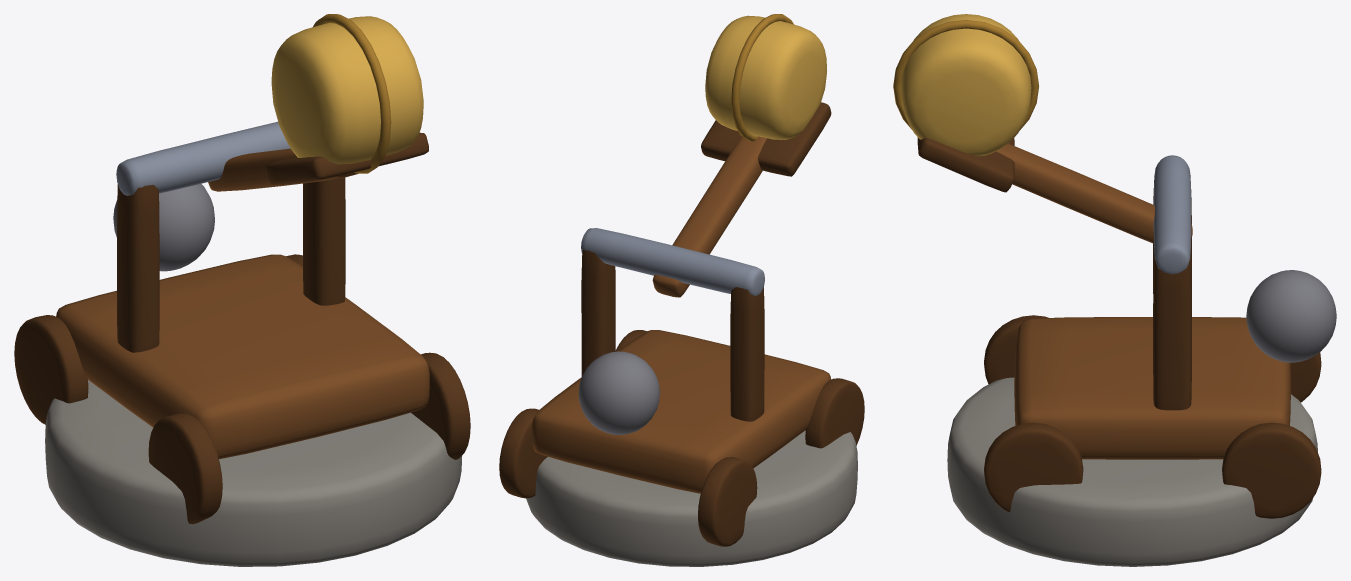
The model's file is HeuballenKatapult.fbx.
The picture shows the model from 3 angles, left to right: view 1: azimuth 30°, elevation 25°; view 2: azimuth 150°, elevation 25°; view 3: azimuth 270°, elevation 25°; orthographic projection. The views are drawn at different scales.
Parts seen in each view (by area): view 1: HeuballenKatapult; view 2: HeuballenKatapult; view 3: HeuballenKatapult.
Boxes of the visible parts, <box> form: HeuballenKatapult: <box>14,14,470,566</box>; HeuballenKatapult: <box>499,14,864,566</box>; HeuballenKatapult: <box>893,14,1336,566</box>.
Bounding box in the file's own units: 0.9347 × 1.32 × 1.12.
